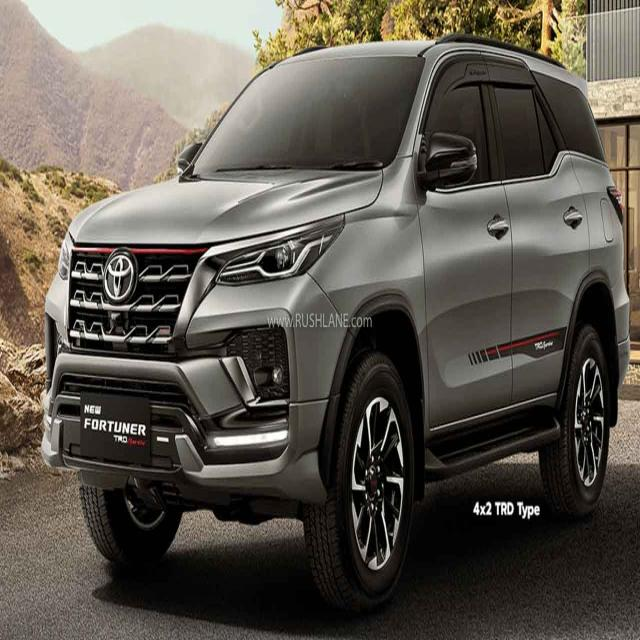light_vehicle: (41, 34, 632, 615)
